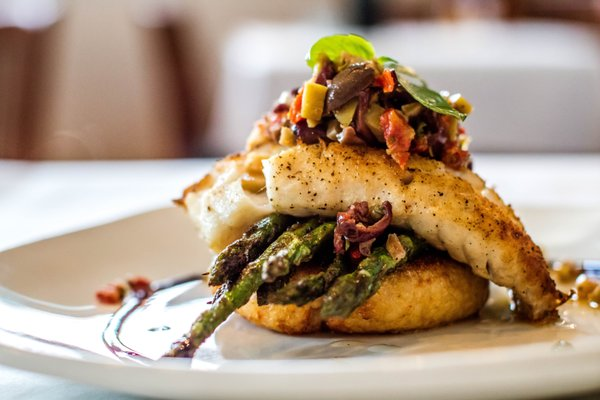soup: (163, 31, 564, 349)
